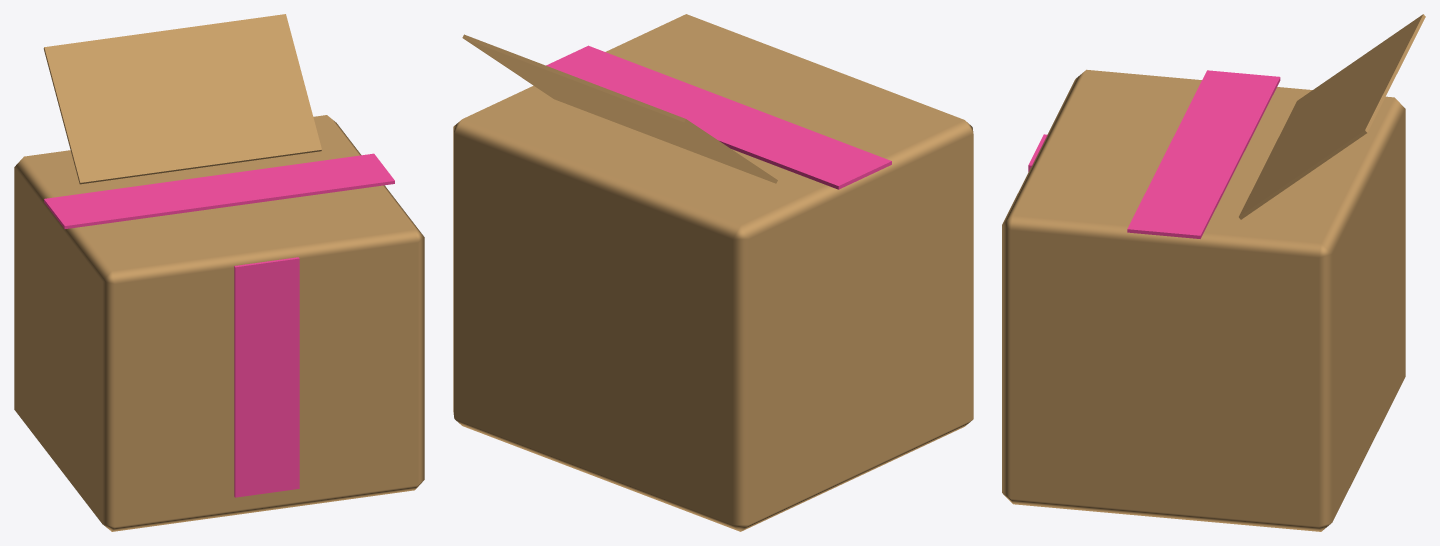
Rendered from station_special_ausstattung_2_0.glb.
3 renders of one model, left to right at view 1: azimuth 30°, elevation 25°; view 2: azimuth 150°, elevation 25°; view 3: azimuth 270°, elevation 25°, orthographic. The views are drawn at different scales.
Parts seen in each view (by area): view 1: station_special_ausstattung_2_0; view 2: station_special_ausstattung_2_0; view 3: station_special_ausstattung_2_0.
Boxes of the visible parts, x1,y1,x2,y2 form: station_special_ausstattung_2_0: [14, 14, 424, 531]; station_special_ausstattung_2_0: [453, 14, 973, 531]; station_special_ausstattung_2_0: [1002, 14, 1425, 531].
Bounding box in the file's own units: 0.4611 × 0.4594 × 0.452.
